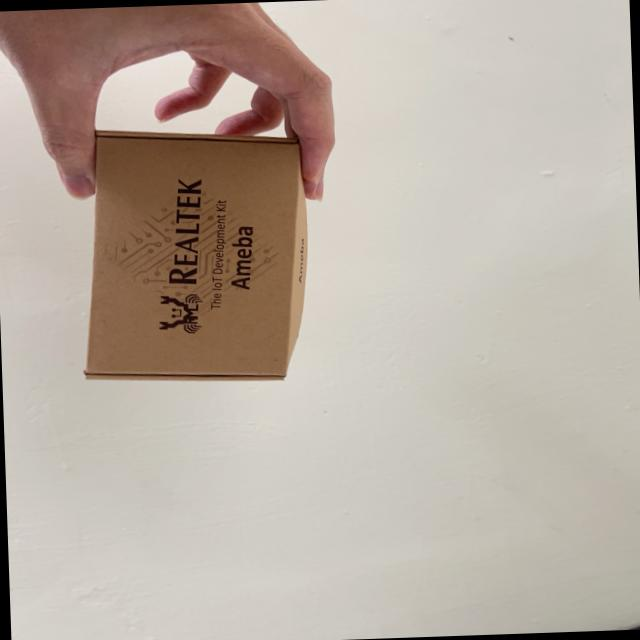box: (72, 109, 352, 384)
